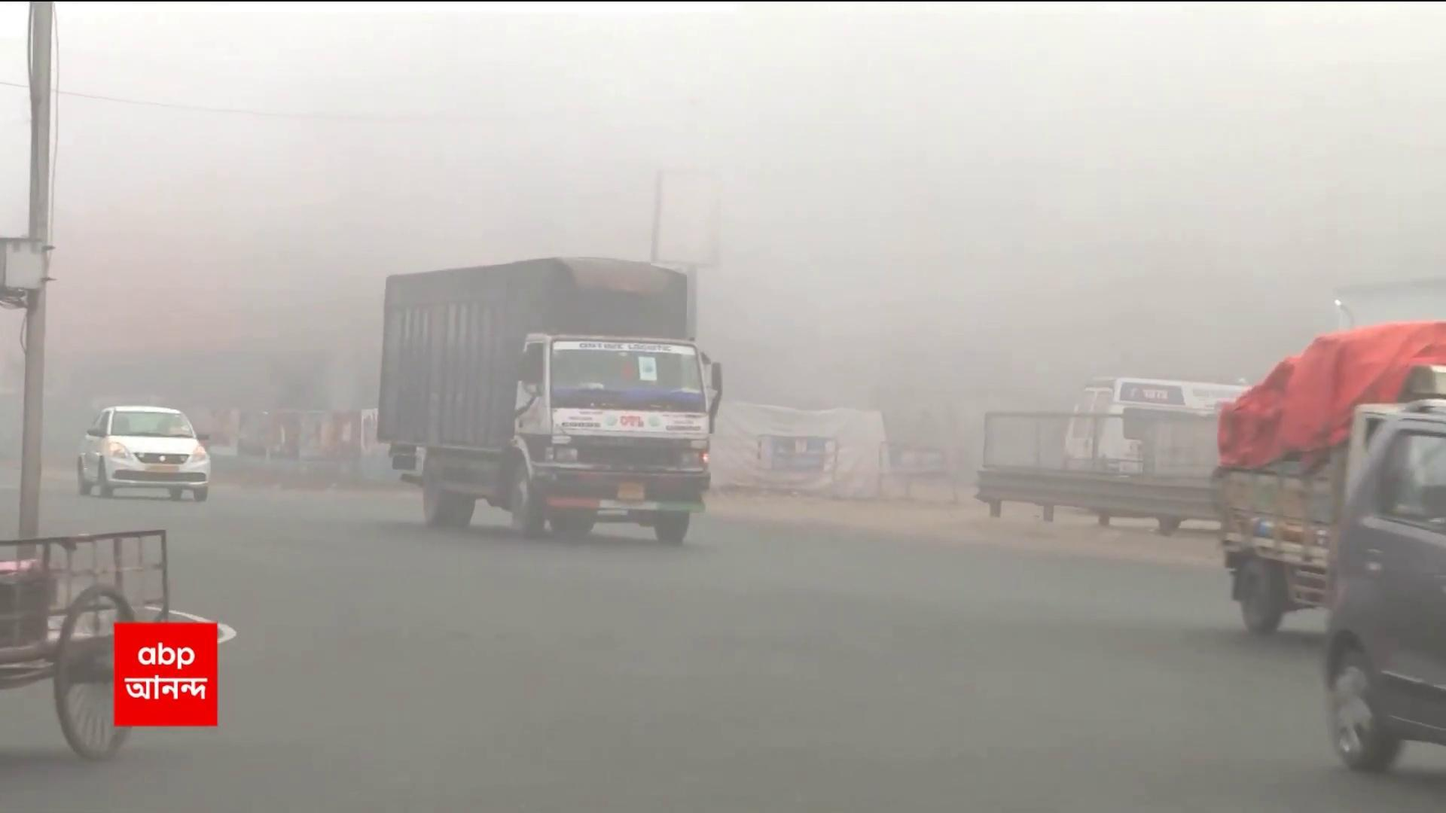Car: (73, 403, 212, 506)
Truck: (381, 254, 715, 545)
